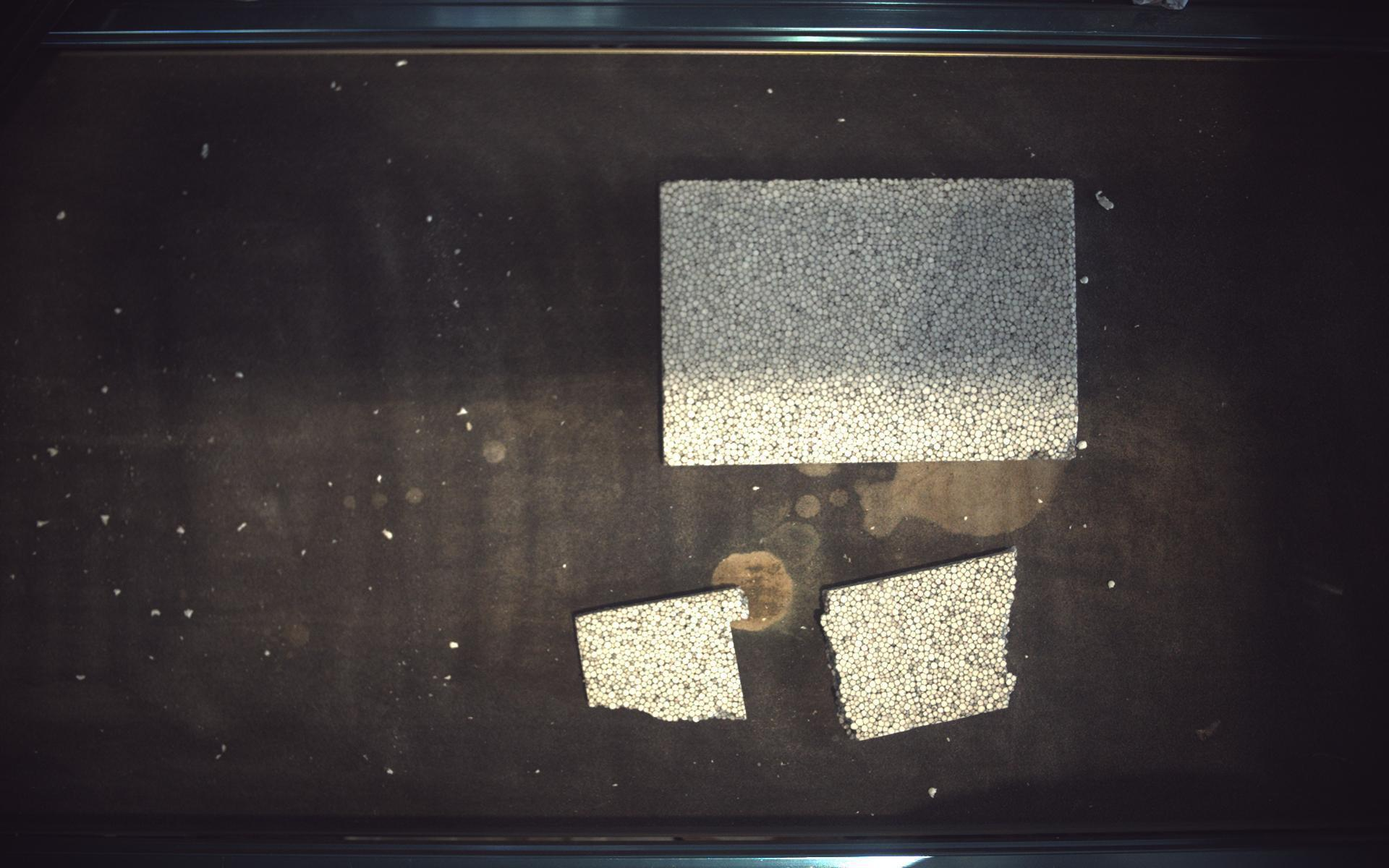foam: (661, 177, 1080, 466), (822, 549, 1019, 741), (577, 588, 749, 723)
